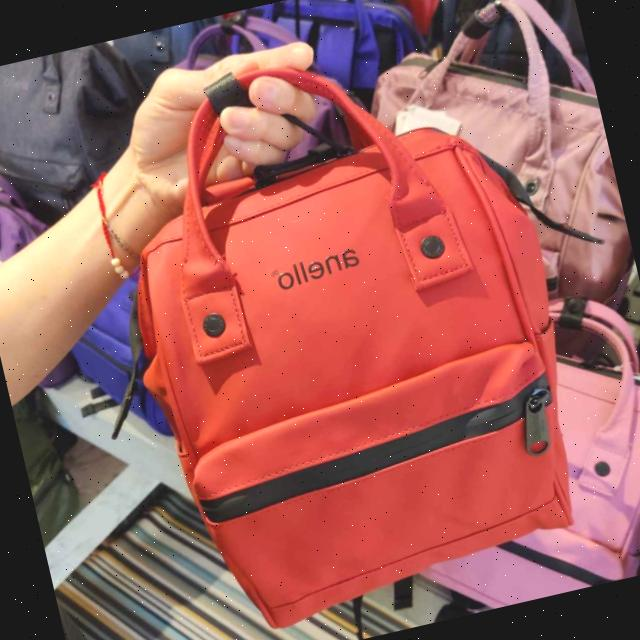Handbag: (76, 11, 616, 640)
